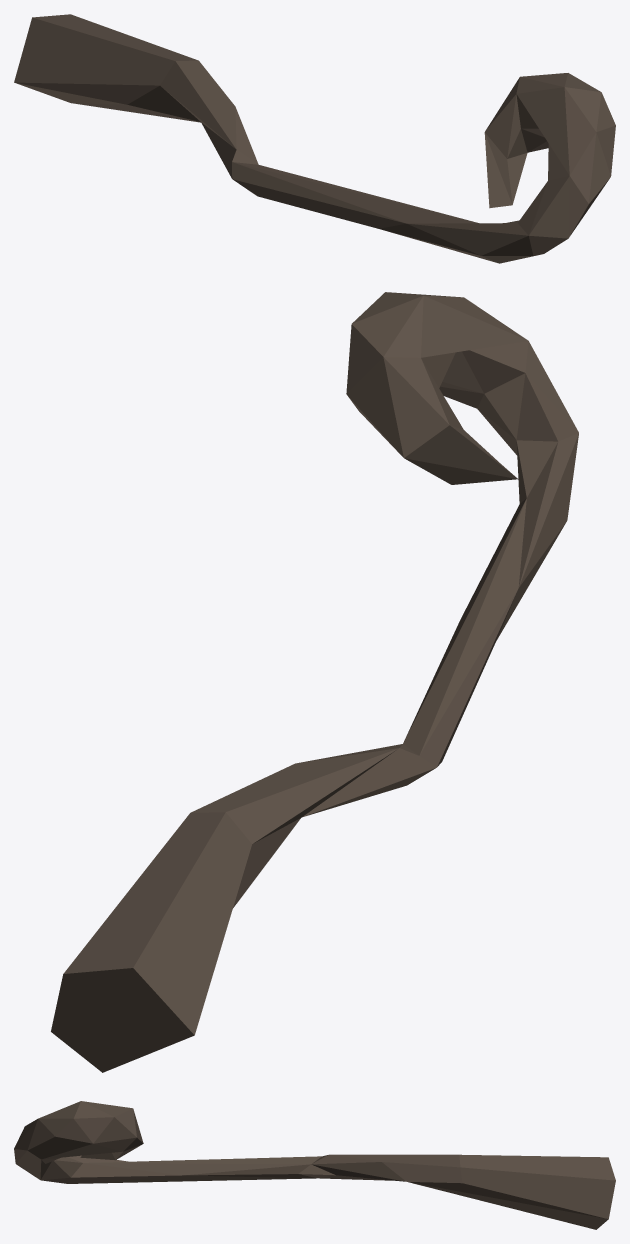
File: EnemyWeapon.fbx
3 views of the same model, one above another, from view 1: azimuth 30°, elevation 25°; view 2: azimuth 150°, elevation 25°; view 3: azimuth 270°, elevation 25° (orthographic). The views are drawn at different scales.
Visible parts, largest first — view 1: EnemyWeapon; view 2: EnemyWeapon; view 3: EnemyWeapon.
Part boxes in pixels (bbox=[...]): EnemyWeapon: bbox=[14, 14, 615, 263]; EnemyWeapon: bbox=[51, 292, 578, 1072]; EnemyWeapon: bbox=[14, 1101, 615, 1229].
Bounding box in the file's own units: 35.82 × 35.65 × 110.
